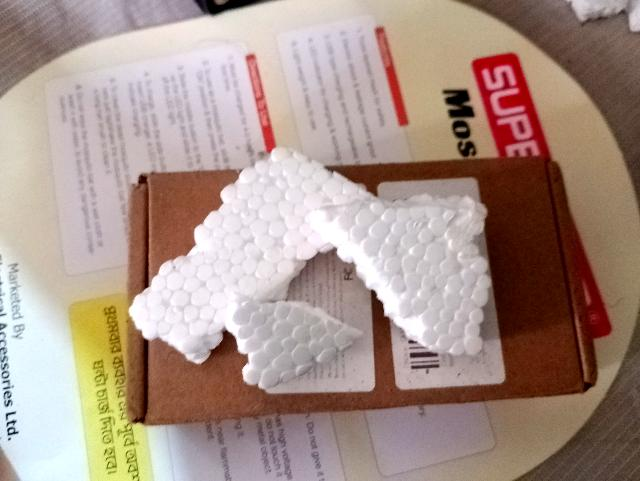cocksheet: (101, 111, 401, 382), (307, 185, 484, 351), (212, 262, 352, 395)
